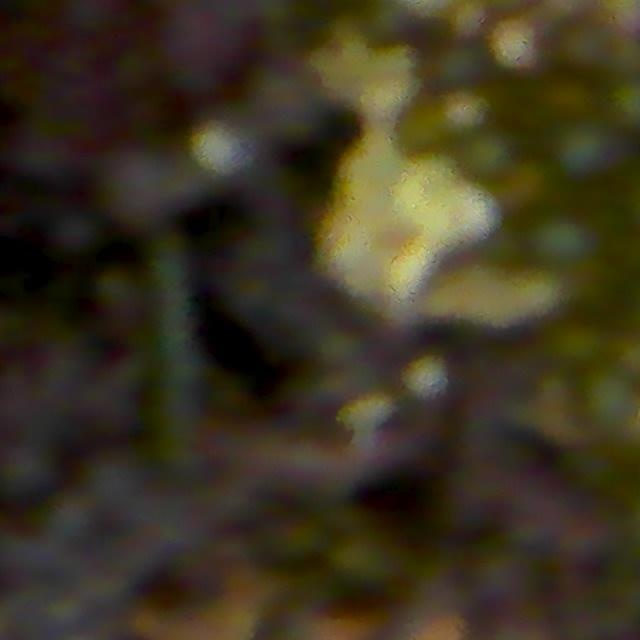SeaGrape: (554, 119, 620, 180), (531, 214, 594, 272), (455, 129, 514, 186), (582, 371, 639, 430), (0, 440, 53, 496), (499, 158, 552, 213), (550, 321, 604, 370)
